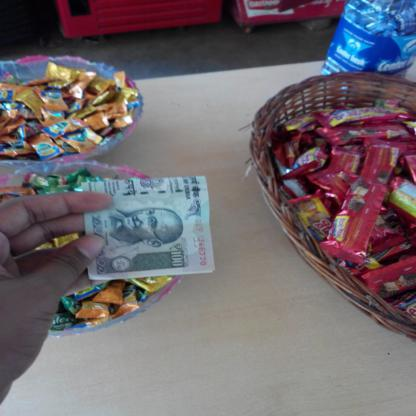Old100Front: (80, 176, 216, 280)
